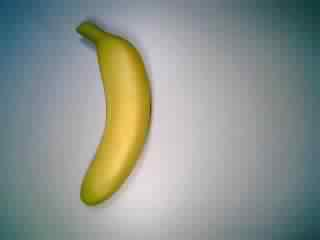banana: (71, 21, 156, 208)
